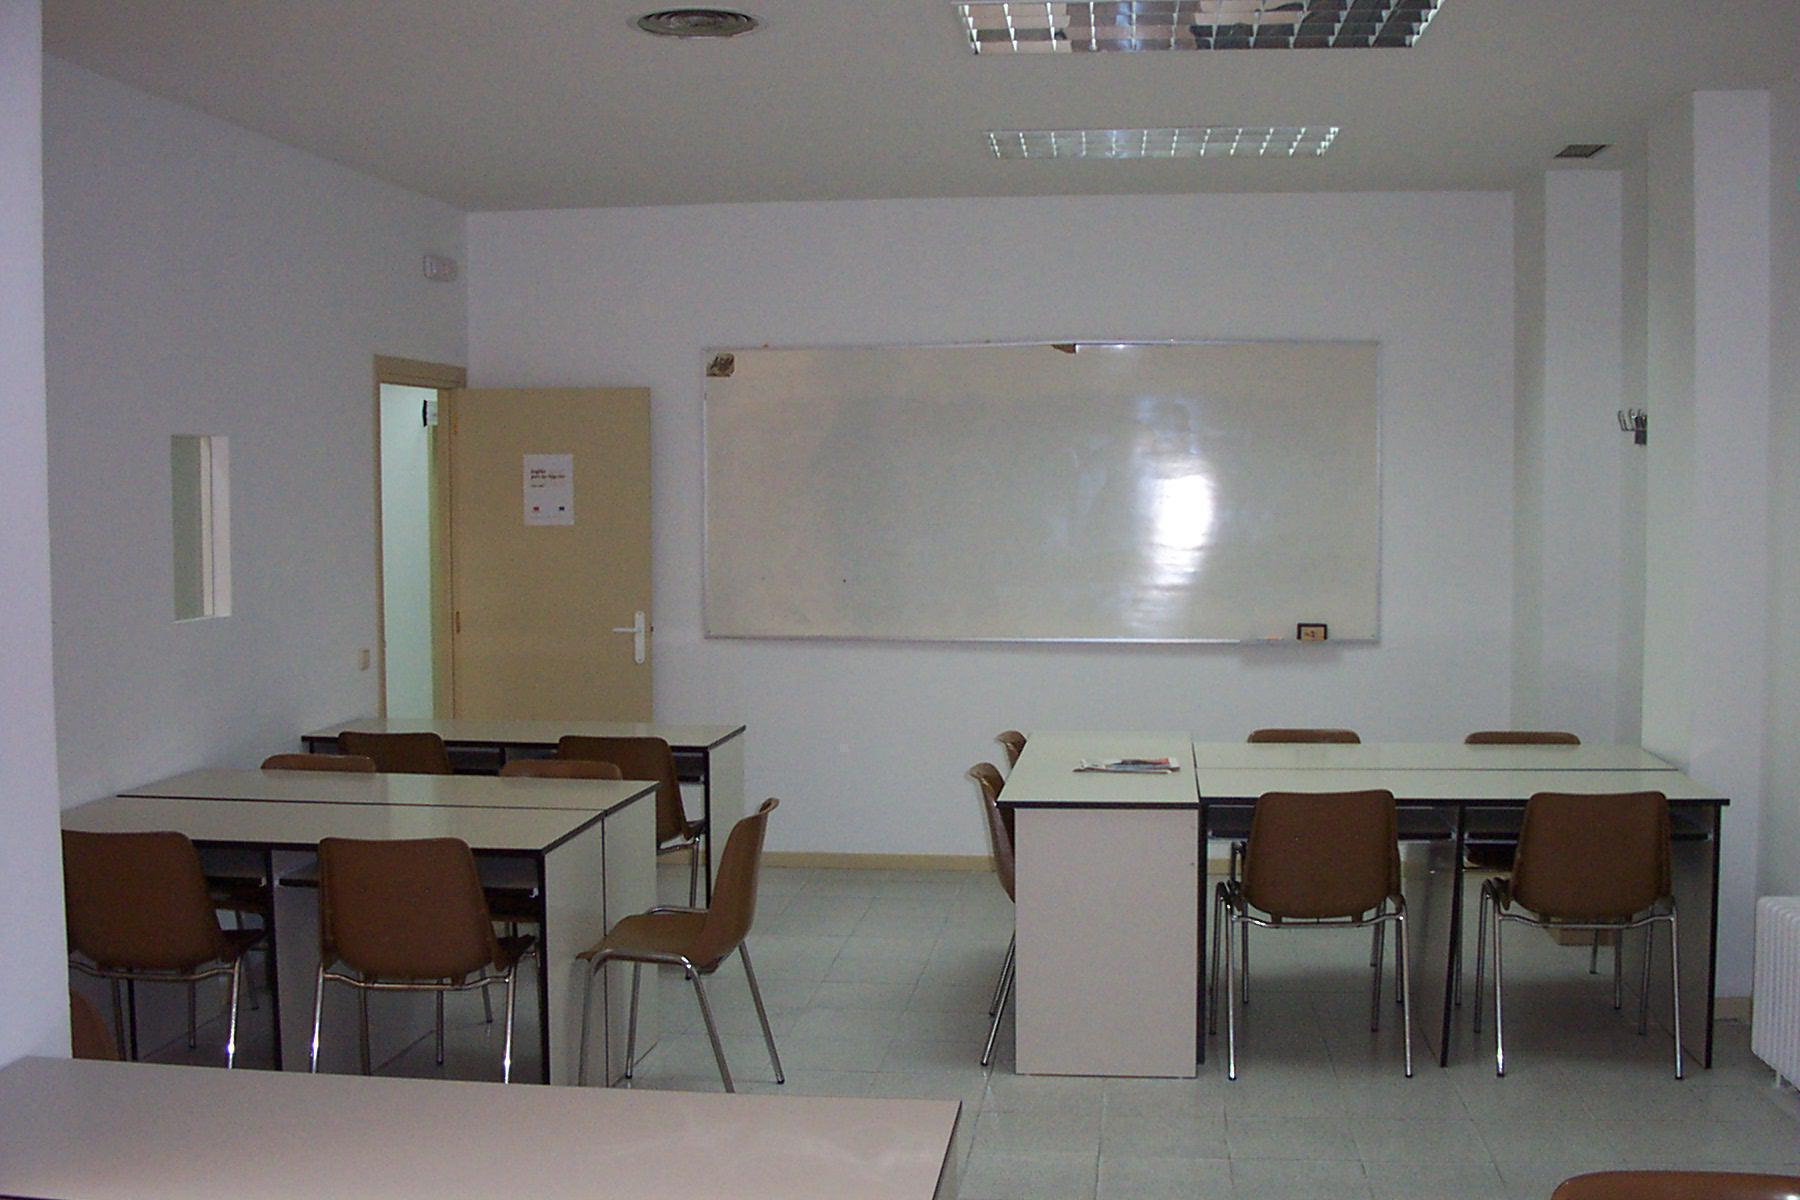Puerta: (449, 383, 658, 708)
